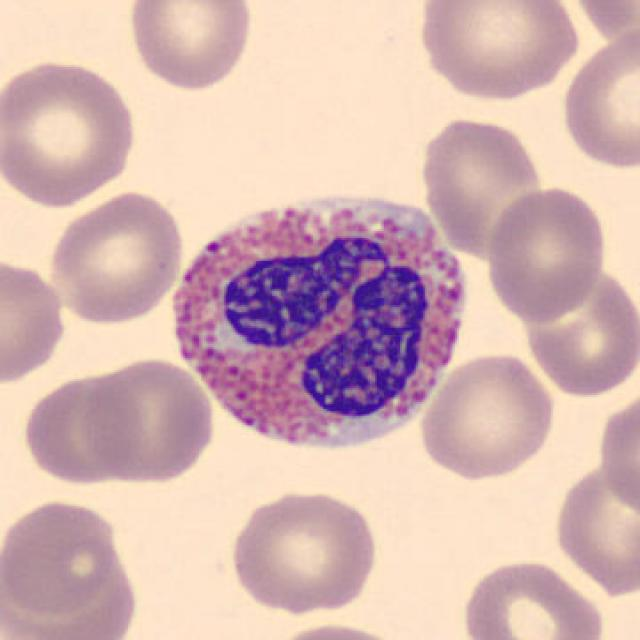Eosinophil: (156, 175, 482, 472)
RBC: (0, 54, 140, 209), (224, 487, 382, 617), (45, 187, 186, 326), (416, 113, 549, 257), (416, 349, 558, 483), (78, 354, 217, 486), (482, 182, 610, 322), (411, 0, 585, 102), (0, 496, 130, 624), (519, 263, 637, 400), (18, 367, 142, 488), (0, 540, 137, 635), (459, 555, 608, 640), (550, 458, 638, 600), (122, 0, 256, 93), (556, 23, 638, 174), (0, 252, 69, 386), (596, 386, 638, 524), (566, 0, 638, 46), (263, 619, 413, 640)
